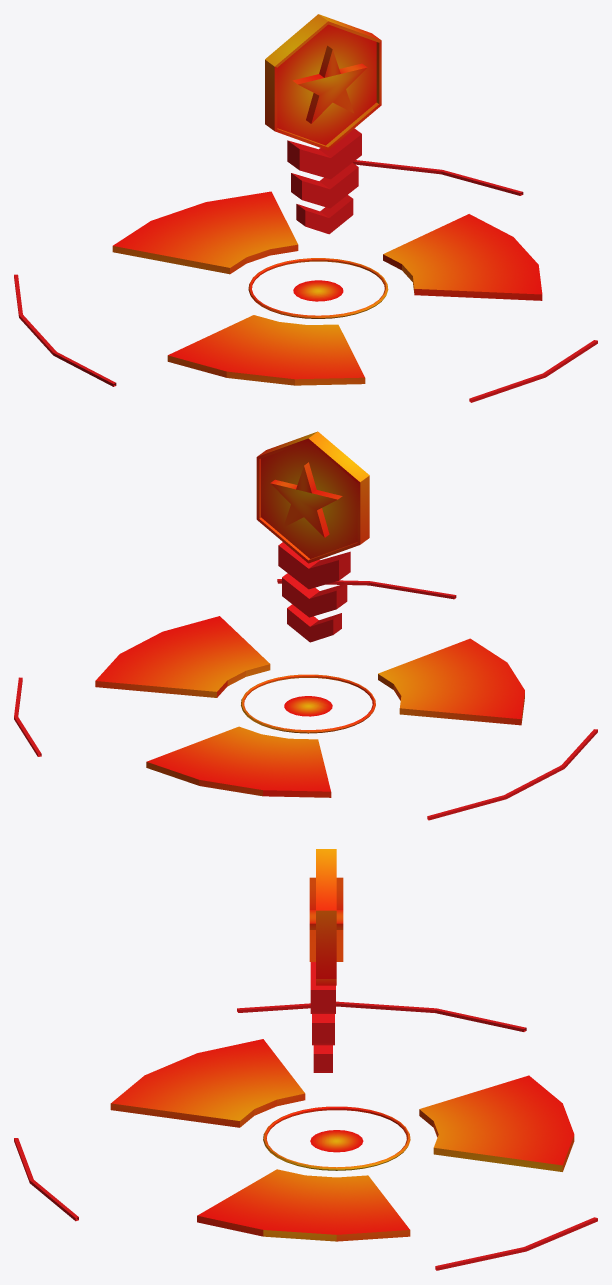
File: community_center.glb
3 views of the same model, one above another, from view 1: azimuth 30°, elevation 25°; view 2: azimuth 150°, elevation 25°; view 3: azimuth 270°, elevation 25° (orthographic). The views are drawn at different scales.
Parts seen in each view (by area): view 1: 圆环, 圆环.003, 圆环.002, 平面, 立方体.002, 立方体.001, 立方体, Torus, 圆环.001; view 2: 圆环, 圆环.003, 圆环.002, 平面, 立方体.002, 立方体.001, Torus, 立方体, 圆环.001; view 3: 圆环, 圆环.002, 圆环.003, Torus, 平面, 圆环.001, 立方体.002, 立方体.001, 立方体.
Part boxes in pixels (left/top/right/bottom): 圆环: left=112, top=191, right=542, bottom=385; 圆环.003: left=265, top=14, right=381, bottom=150; 圆环.002: left=14, top=160, right=597, bottom=402; 平面: left=292, top=45, right=367, bottom=123; 立方体.002: left=287, top=128, right=361, bottom=179; 立方体.001: left=291, top=162, right=358, bottom=208; 立方体: left=296, top=195, right=353, bottom=234; Torus: left=248, top=258, right=388, bottom=318; 圆环.001: left=293, top=280, right=343, bottom=301; 圆环: left=95, top=616, right=524, bottom=797; 圆环.003: left=256, top=431, right=369, bottom=563; 圆环.002: left=14, top=579, right=597, bottom=820; 平面: left=270, top=462, right=342, bottom=537; 立方体.002: left=278, top=542, right=350, bottom=589; 立方体.001: left=282, top=573, right=347, bottom=617; Torus: left=241, top=674, right=375, bottom=733; 立方体: left=287, top=604, right=341, bottom=642; 圆环.001: left=284, top=696, right=332, bottom=716; 圆环: left=110, top=1039, right=574, bottom=1241; 圆环.002: left=14, top=1001, right=597, bottom=1270; 圆环.003: left=316, top=849, right=336, bottom=985; Torus: left=263, top=1106, right=410, bottom=1170; 平面: left=309, top=877, right=343, bottom=961; 圆环.001: left=310, top=1130, right=363, bottom=1152; 立方体.002: left=310, top=962, right=335, bottom=1013; 立方体.001: left=312, top=1014, right=334, bottom=1045; 立方体: left=313, top=1045, right=332, bottom=1072.
Bounding box in the file's own units: 1.22 × 0.6246 × 1.13.
2 materials, 1 textured.
